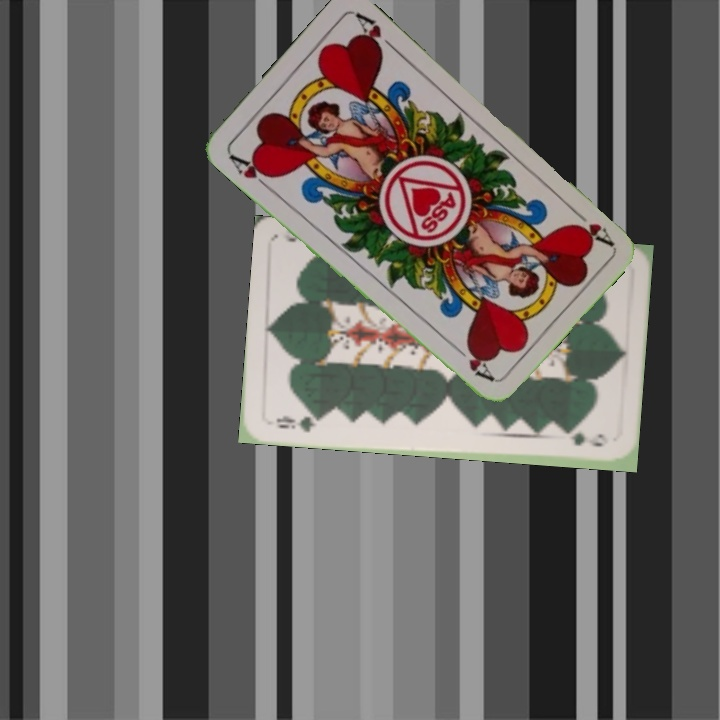G9: (272, 412, 324, 435)
HA: (566, 203, 616, 249), (224, 150, 276, 193)
